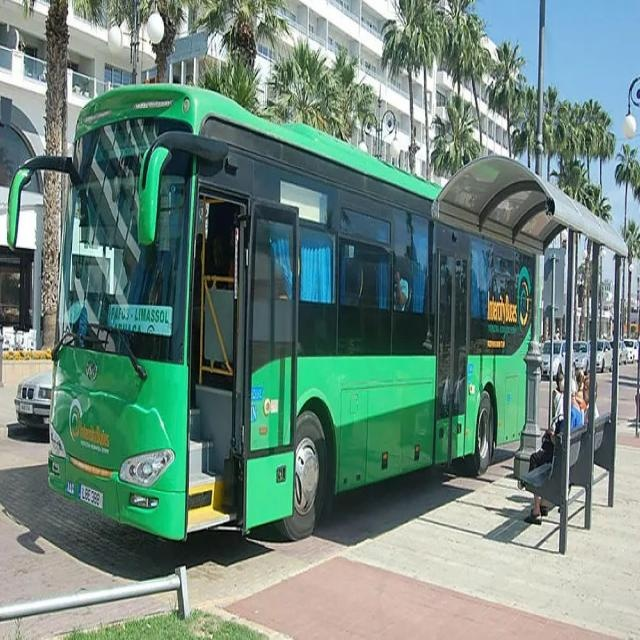Bus: (6, 70, 538, 560)
